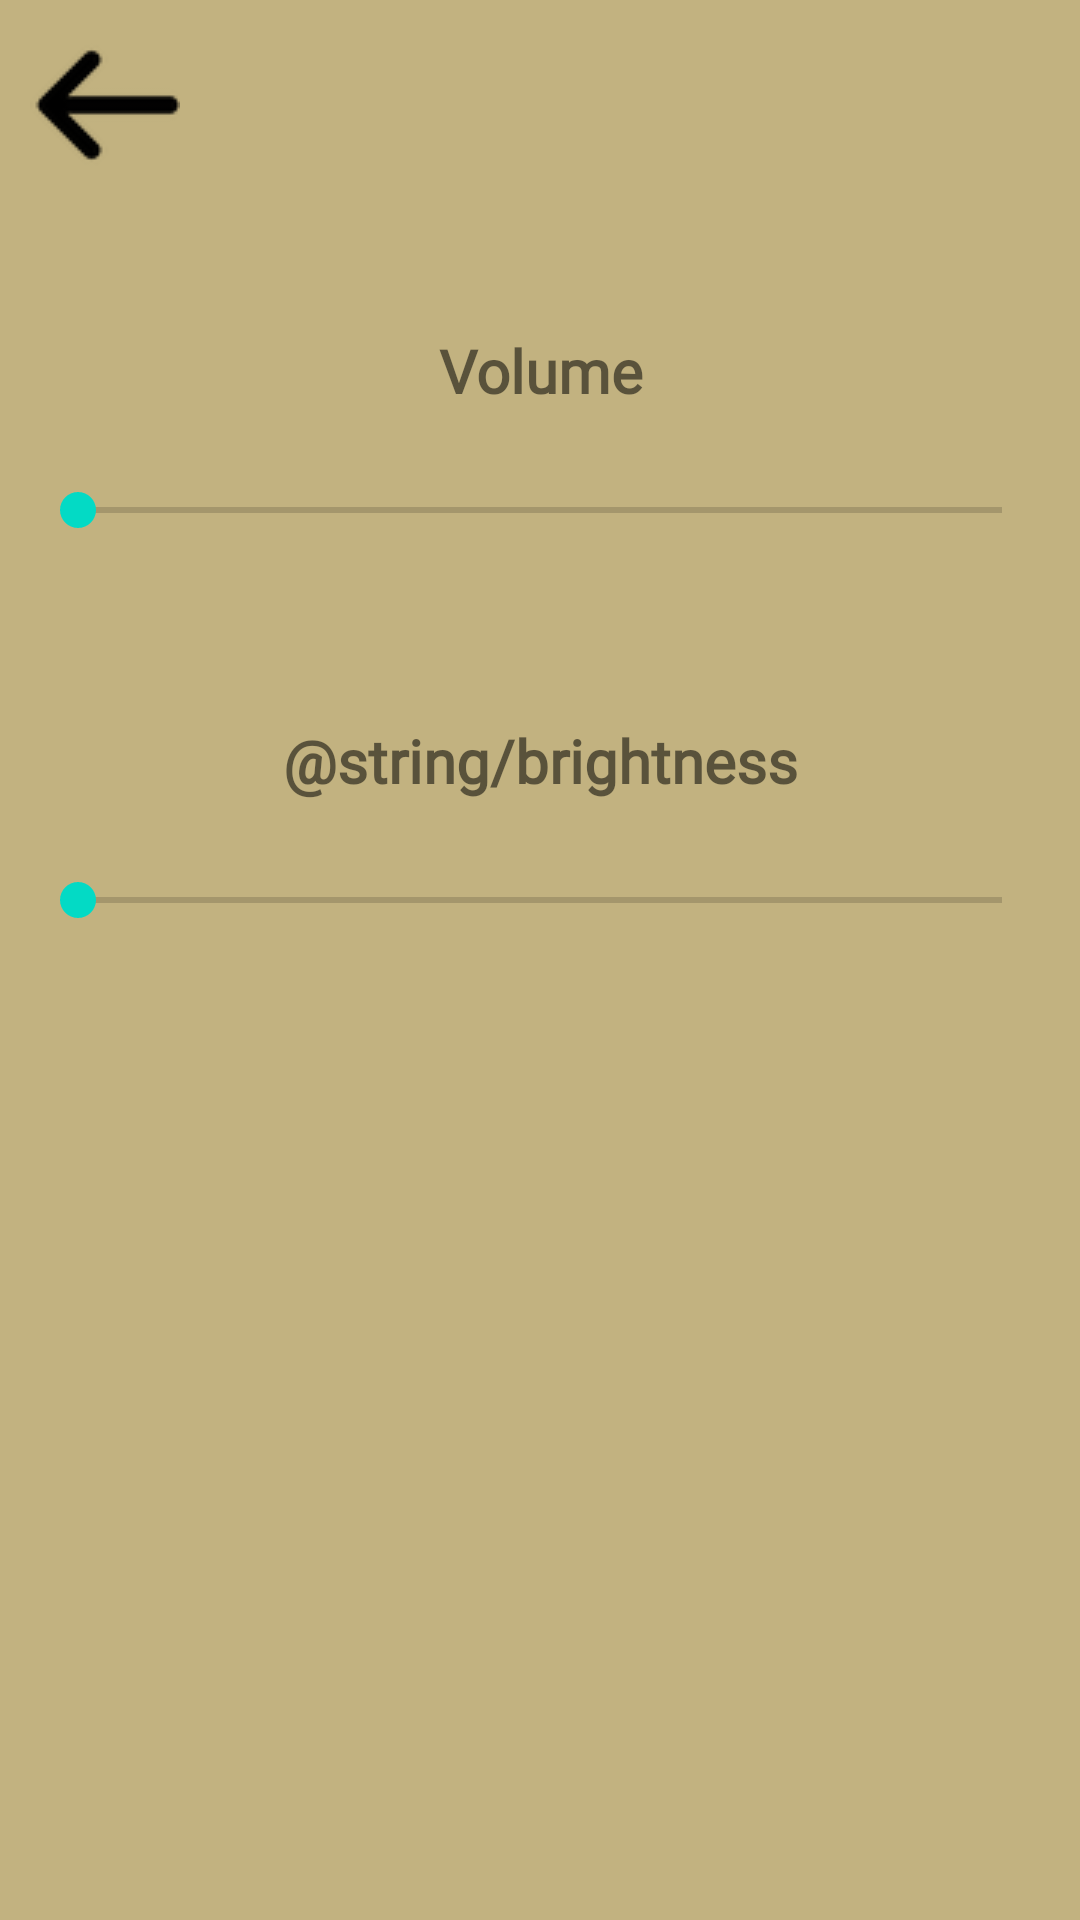

Icons on this 1080 × 1920 Android screen, each with the point to tap as [x,y]:
backarrow: [108,105]
